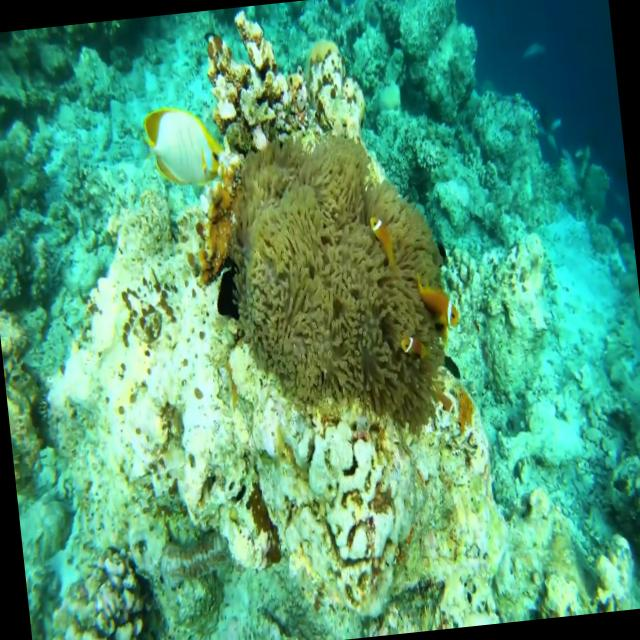fish: (143, 100, 223, 192)
